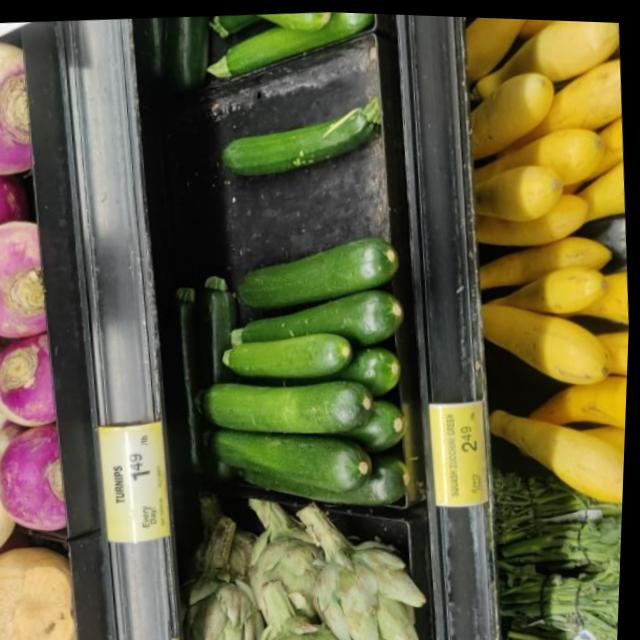Zucchini: (219, 84, 388, 178), (491, 395, 629, 501), (198, 415, 378, 496), (235, 226, 403, 309), (201, 6, 380, 82), (477, 291, 619, 386), (195, 366, 380, 436), (230, 281, 409, 351), (469, 116, 611, 195), (222, 323, 356, 380)
